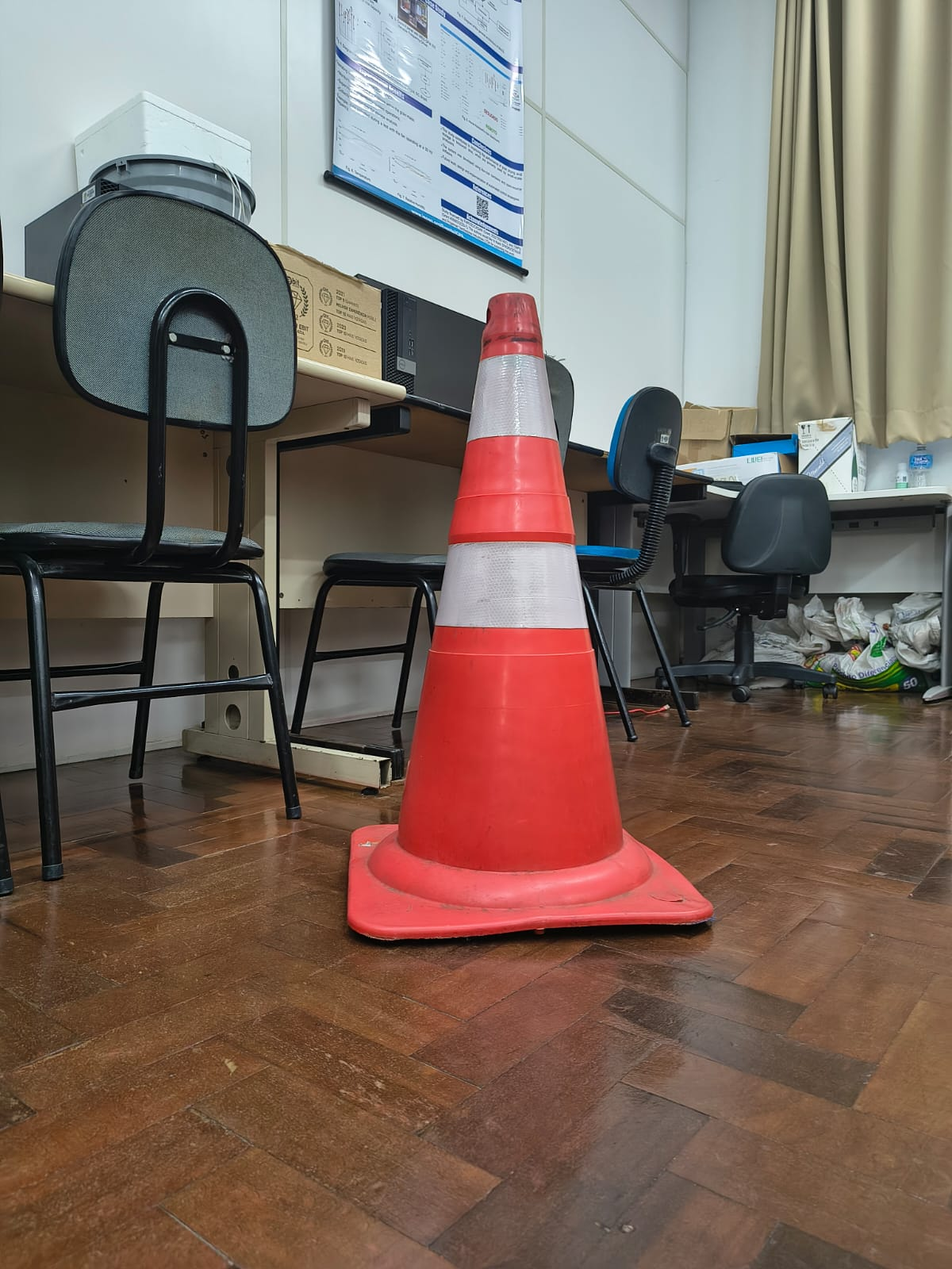cone: (352, 286, 713, 936)
